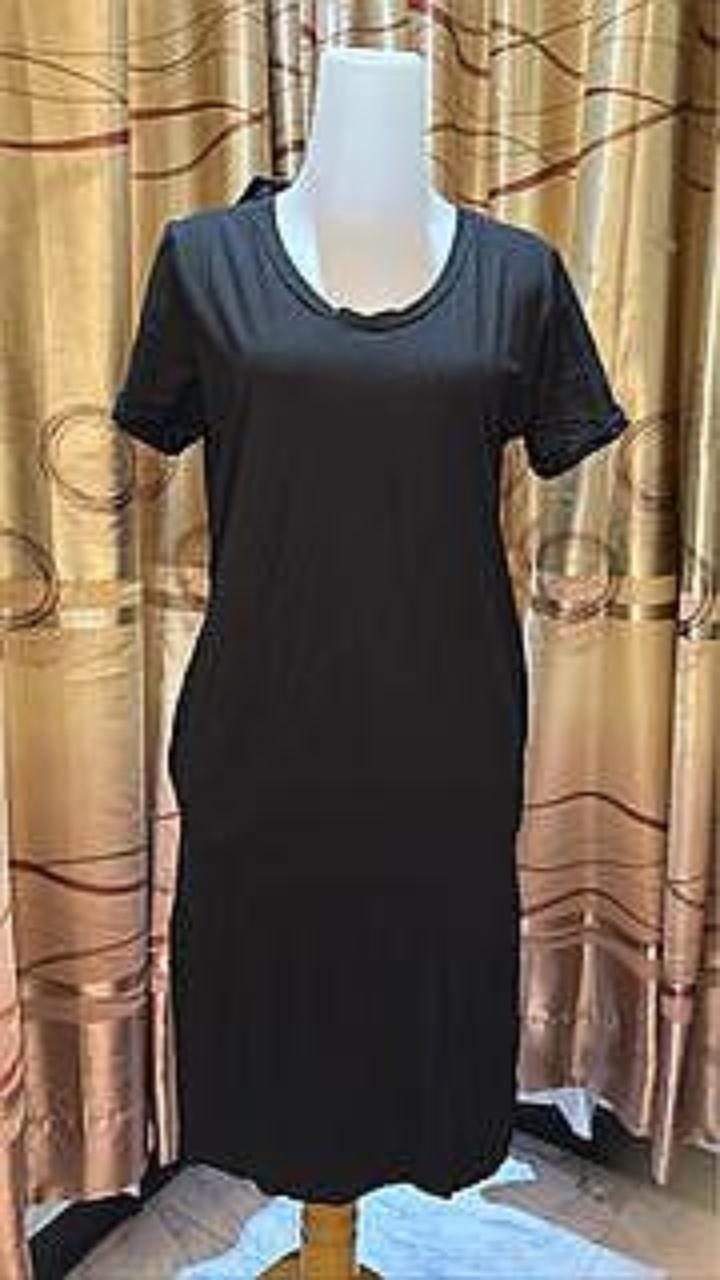Dresses: (113, 175, 626, 1202)
